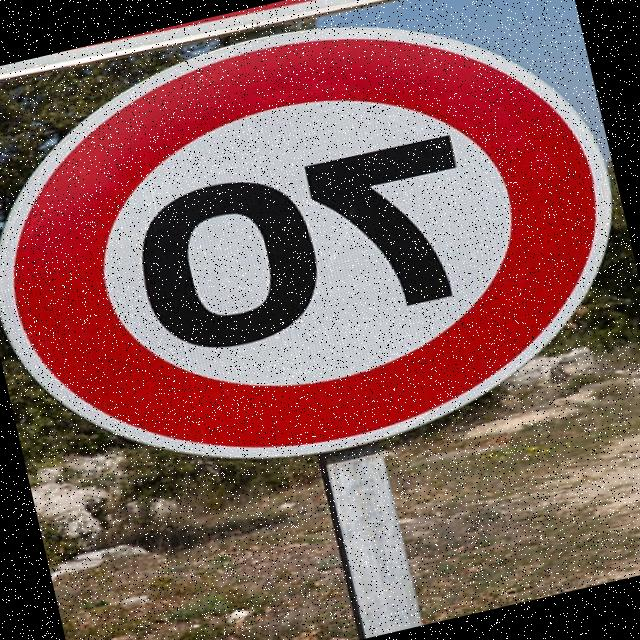speed_limit_70: (0, 0, 640, 521)
